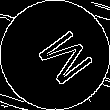M_SW: (21, 21, 89, 89)
